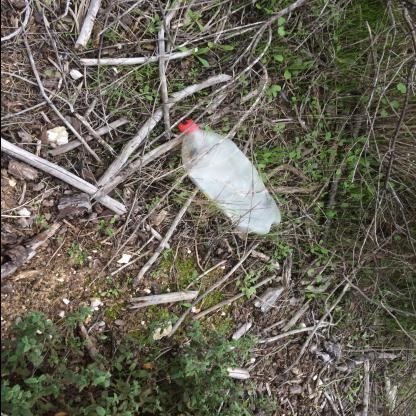plastik: (178, 121, 284, 237)
